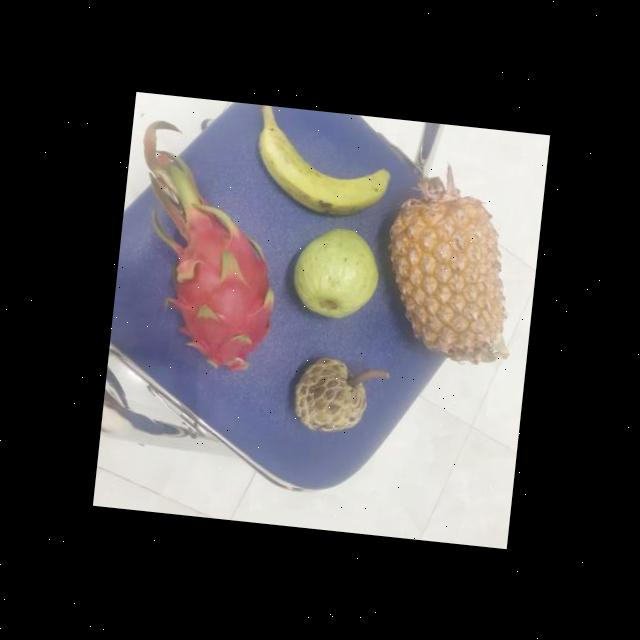Sakya fruit: (286, 355, 375, 441)
banana: (247, 113, 393, 223)
guava: (290, 224, 380, 326)
pineapple: (374, 191, 516, 362)
pitaya: (153, 206, 284, 388)
